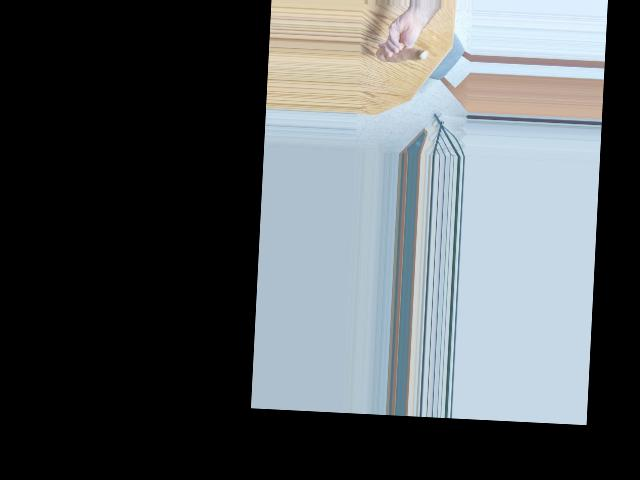sweet_potato: (377, 41, 429, 64)
